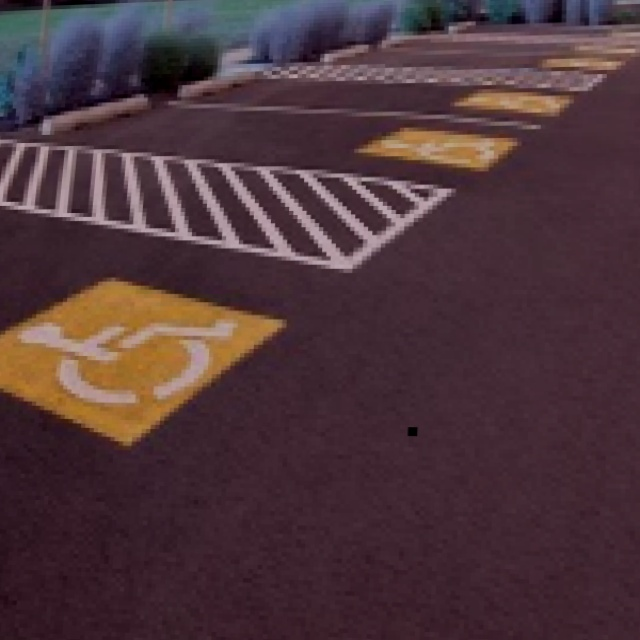ISA: (7, 298, 240, 416), (376, 122, 494, 169)
